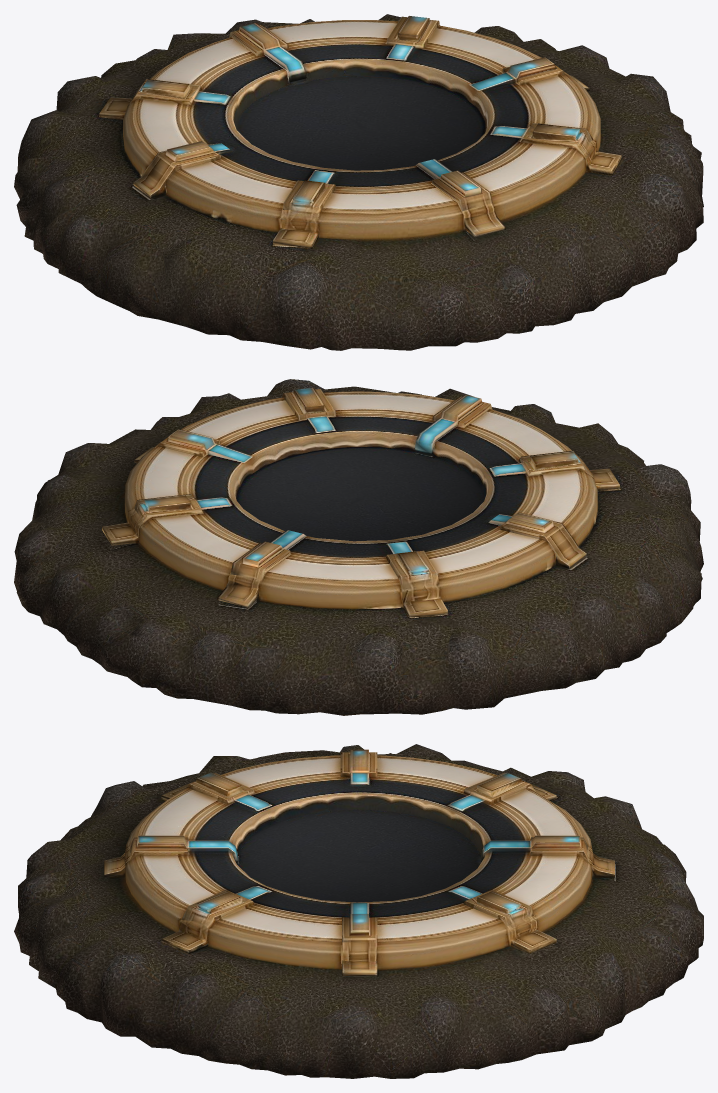
The model's file is earth-landing-standard.glb.
The picture shows the model from 3 angles, top to bottom: view 1: azimuth 30°, elevation 25°; view 2: azimuth 150°, elevation 25°; view 3: azimuth 270°, elevation 25°; orthographic projection.
Parts seen in each view (by area): view 1: tripo_node_78d8f864-15d5-4a7d-b8ec-e12d30af8aaa; view 2: tripo_node_78d8f864-15d5-4a7d-b8ec-e12d30af8aaa; view 3: tripo_node_78d8f864-15d5-4a7d-b8ec-e12d30af8aaa.
Part boxes in pixels (left/top/right/bottom): tripo_node_78d8f864-15d5-4a7d-b8ec-e12d30af8aaa: left=14, top=14, right=703, bottom=350; tripo_node_78d8f864-15d5-4a7d-b8ec-e12d30af8aaa: left=14, top=379, right=703, bottom=715; tripo_node_78d8f864-15d5-4a7d-b8ec-e12d30af8aaa: left=14, top=744, right=703, bottom=1078.
Bounding box in the file's own units: 1 × 0.1507 × 1.
Materials: 1 (1 with a texture image).
